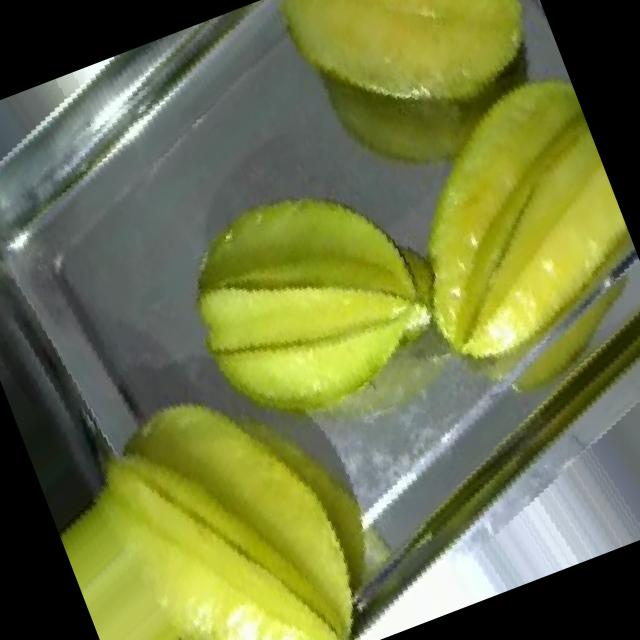fruit: (88, 91, 514, 515), (15, 304, 431, 640), (311, 32, 640, 434), (237, 0, 580, 207)
